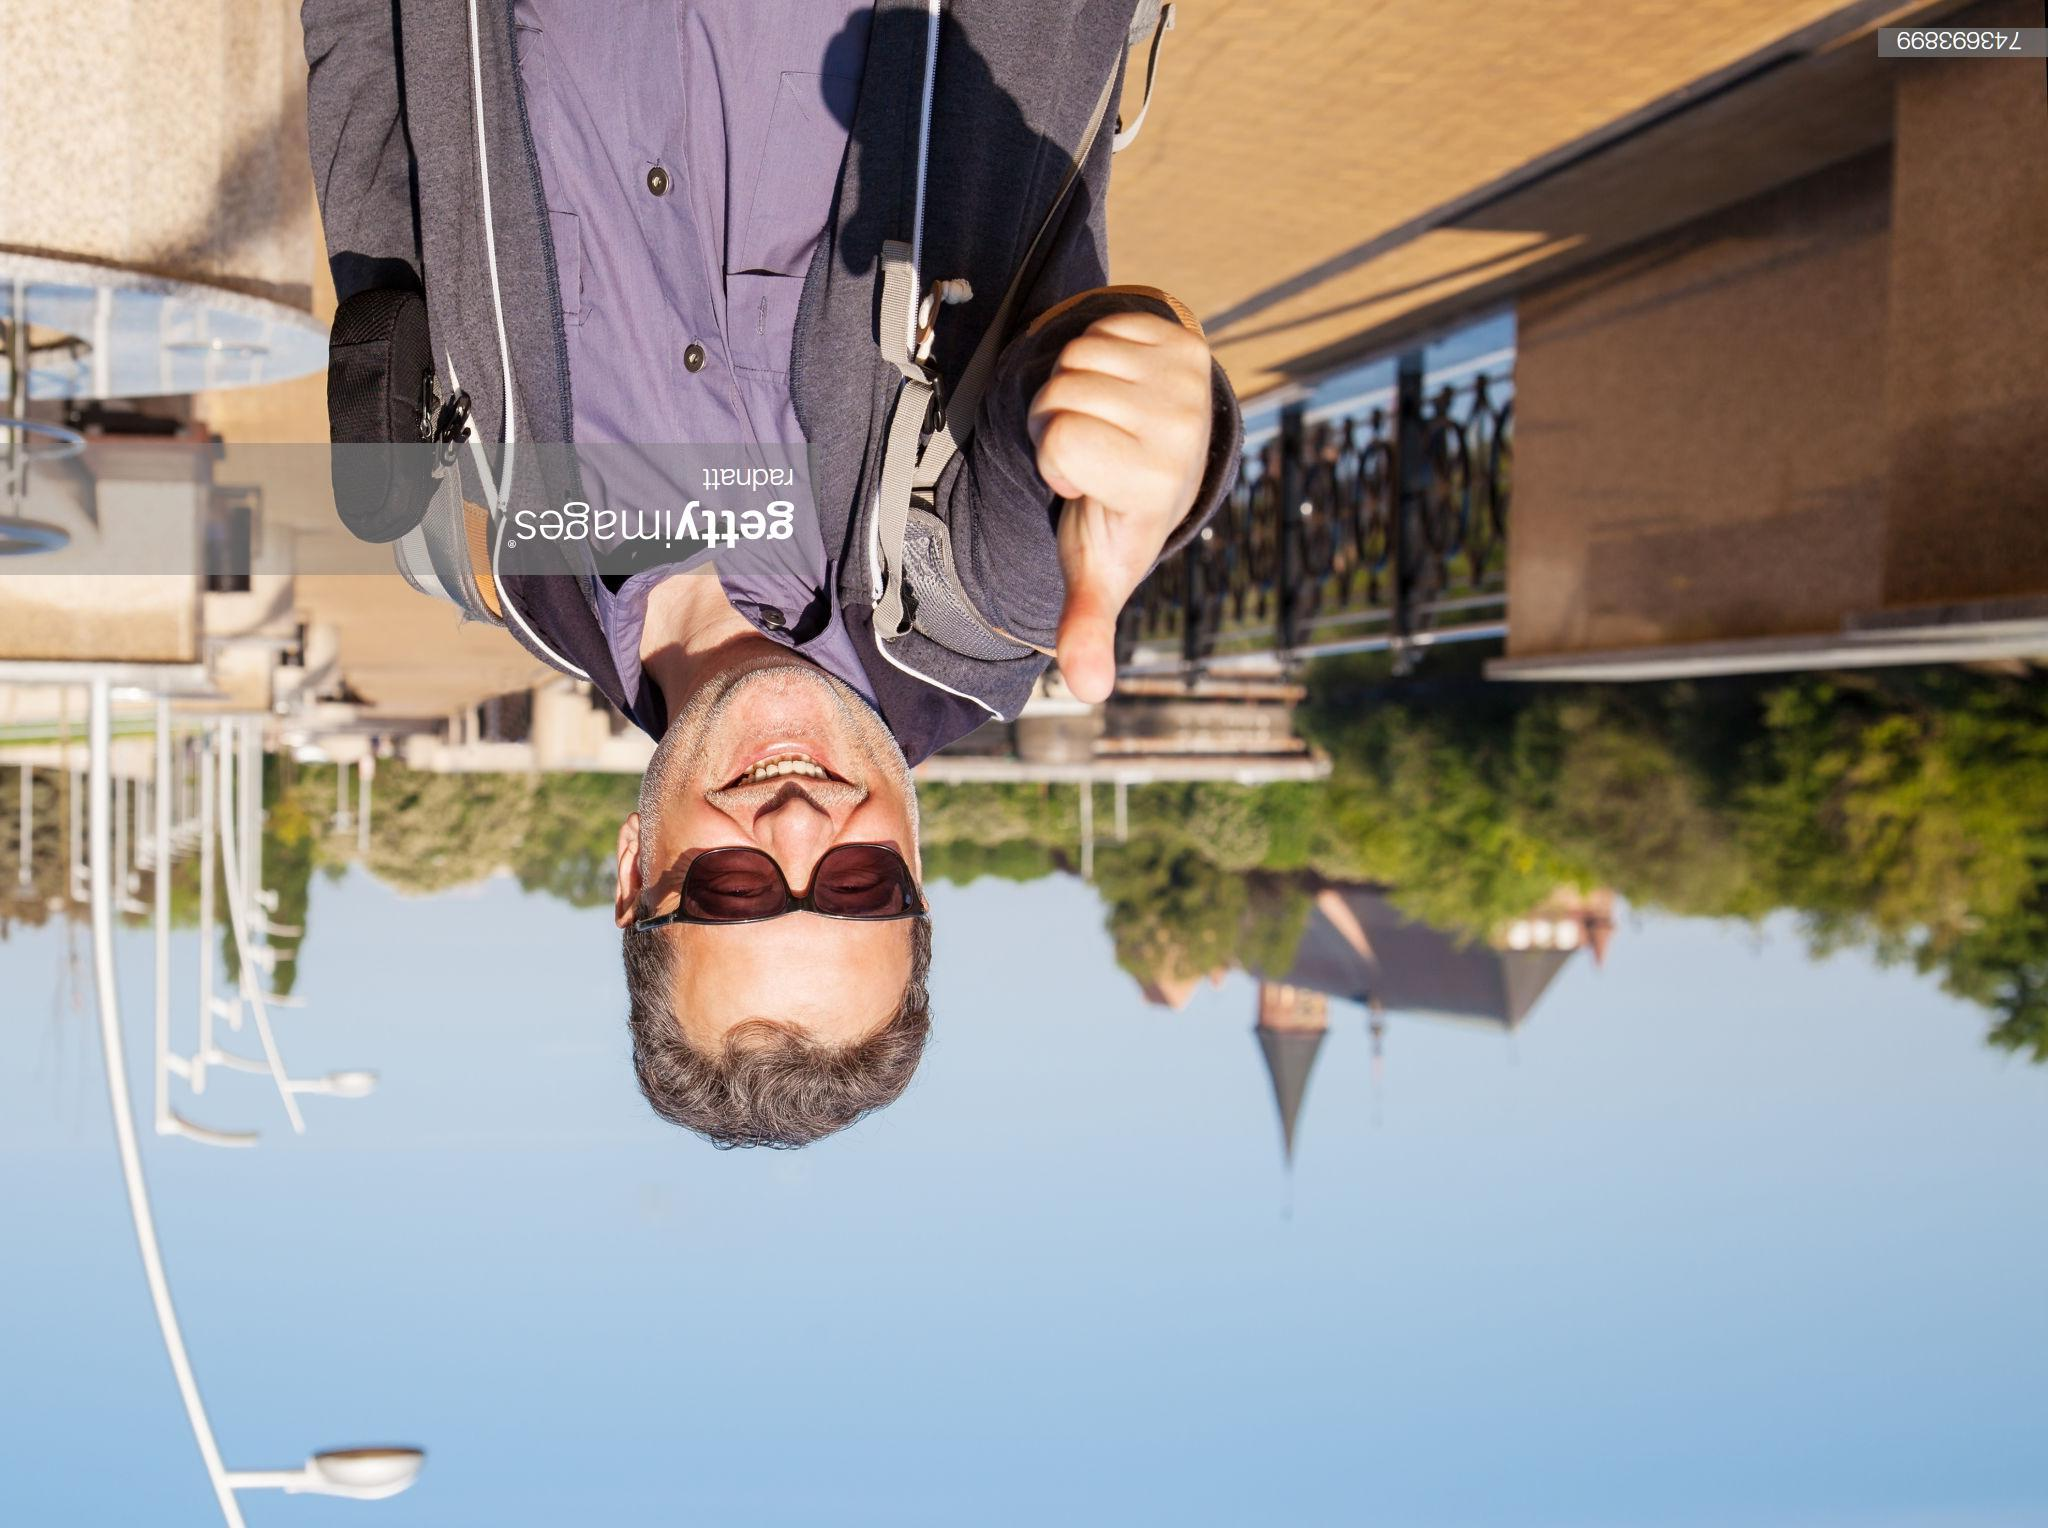thumbsdown: (1027, 311, 1213, 706)
